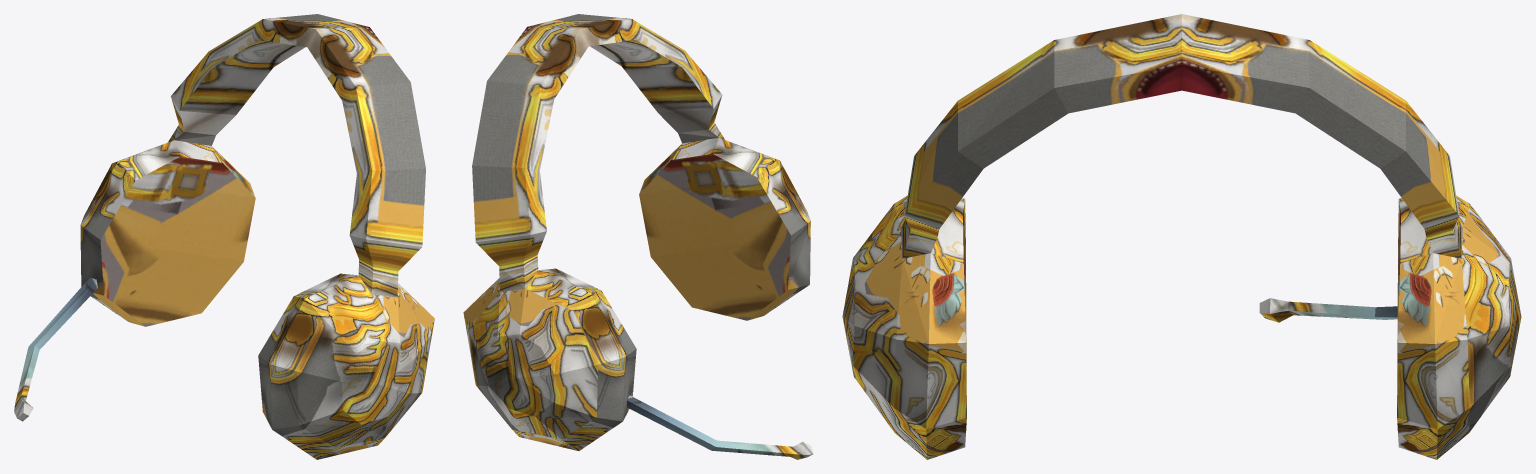
File: Chameleon_headphoneM.obj
The picture shows the model from 3 angles, left to right: view 1: azimuth 30°, elevation 25°; view 2: azimuth 150°, elevation 25°; view 3: azimuth 270°, elevation 25°; orthographic projection. The views are drawn at different scales.
Visible parts, largest first — view 1: Chameleon_headphoneM_tri; view 2: Chameleon_headphoneM_tri; view 3: Chameleon_headphoneM_tri.
Part boxes in pixels (bbox=[...]): Chameleon_headphoneM_tri: bbox=[14, 14, 434, 459]; Chameleon_headphoneM_tri: bbox=[463, 14, 813, 459]; Chameleon_headphoneM_tri: bbox=[842, 14, 1521, 459].
Bounding box in the file's own units: 0.2506 × 0.2606 × 0.3336.
Materials: 1 (1 with a texture image).
